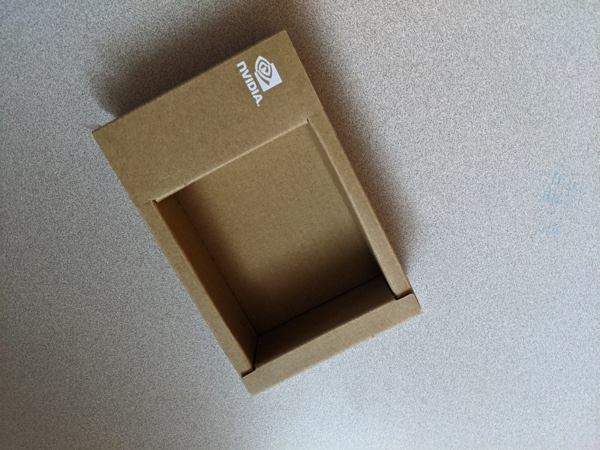cardboard: (81, 25, 438, 408)
